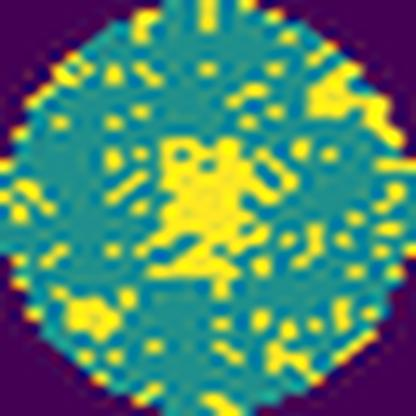Center: (139, 134, 298, 300)
